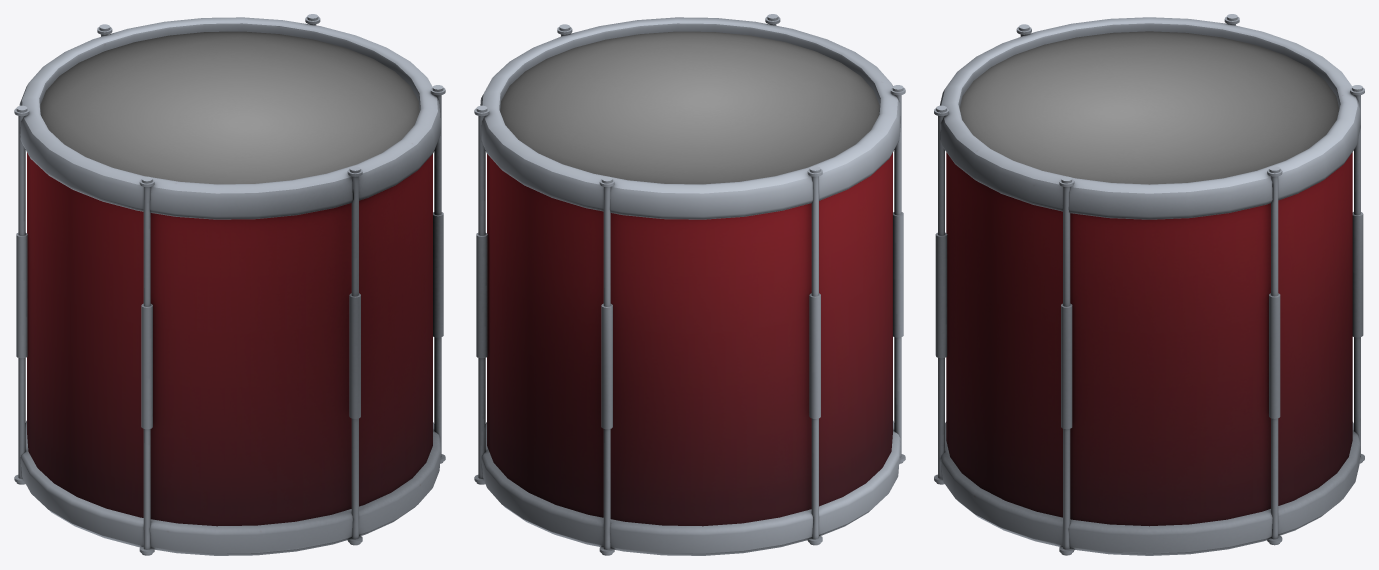
File: beben_wyso_A.fbx
The picture shows the model from 3 angles, left to right: view 1: azimuth 30°, elevation 25°; view 2: azimuth 150°, elevation 25°; view 3: azimuth 270°, elevation 25°; orthographic projection.
Parts seen in each view (by area): view 1: beben_wyso_A; view 2: beben_wyso_A; view 3: beben_wyso_A.
Boxes of the visible parts, x1,y1,x2,y2 form: beben_wyso_A: [14, 14, 445, 555]; beben_wyso_A: [474, 14, 905, 555]; beben_wyso_A: [934, 14, 1364, 555].
Size of the model in its own units: 624 by 610 by 636.
1 material, 1 textured.
